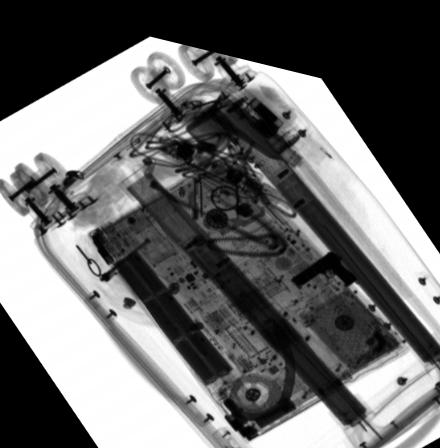Gun: (289, 233, 357, 271)
